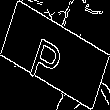P_NE: (35, 24, 75, 86)
